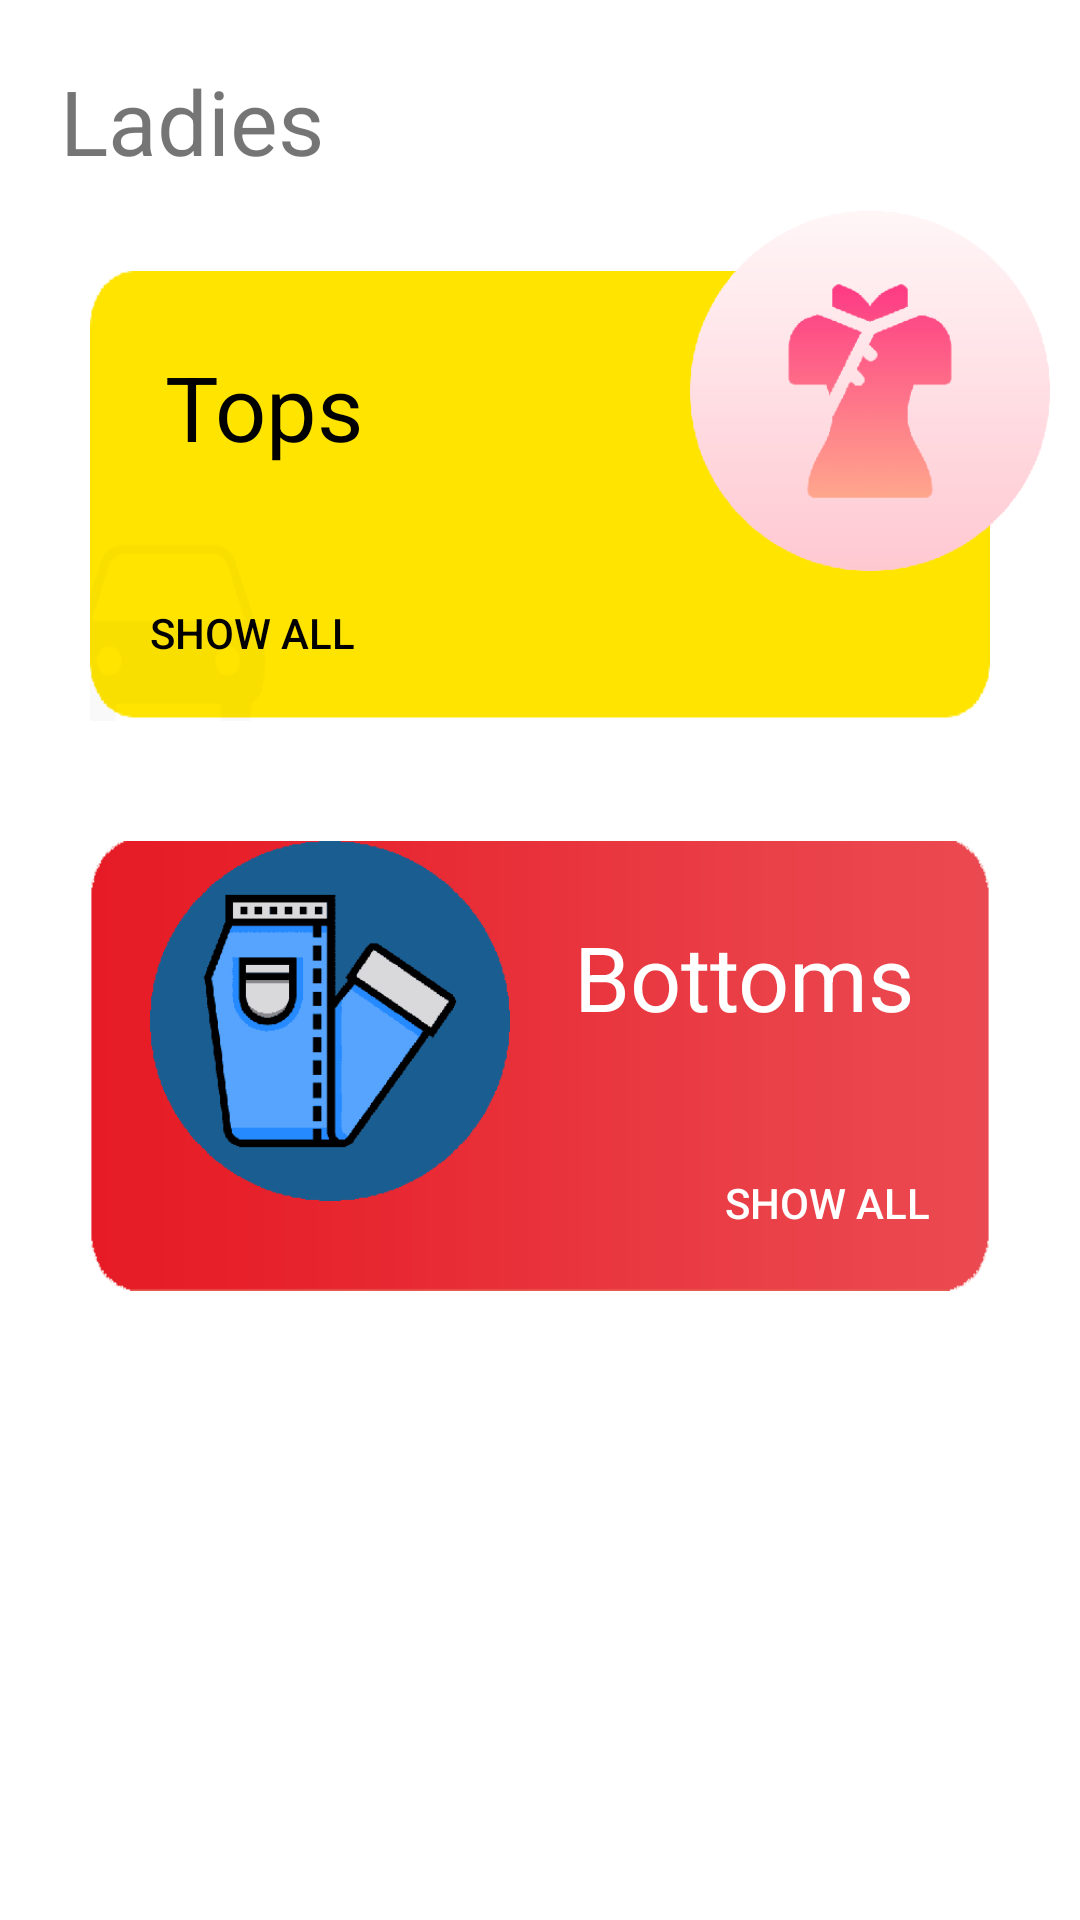

Screen size 1080px x 1920px. Icon name, then its center in pixels as point (x, y):
ladies top: point (870, 391)
mens bottom: point (330, 1021)
